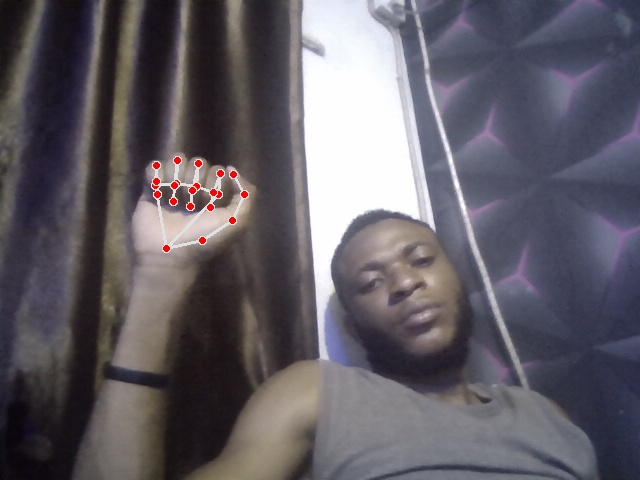number0: (131, 152, 257, 266)
